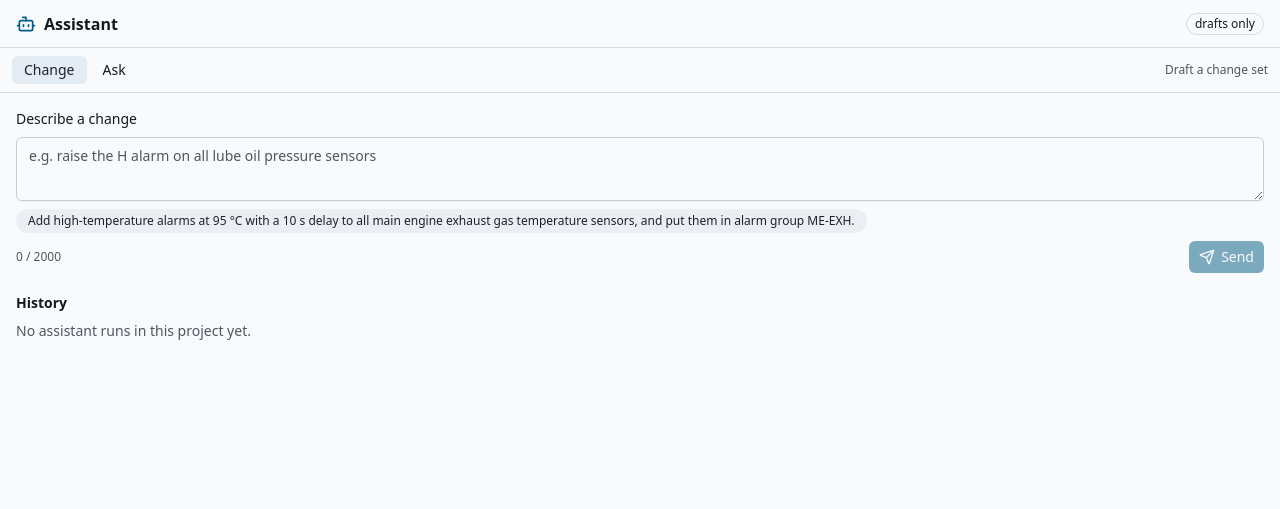
Scenario: Ask mode › notes dropped citations
Click the tab "Ask".
click(114, 70)  # box x1=90 y1=56 x2=138 y2=84
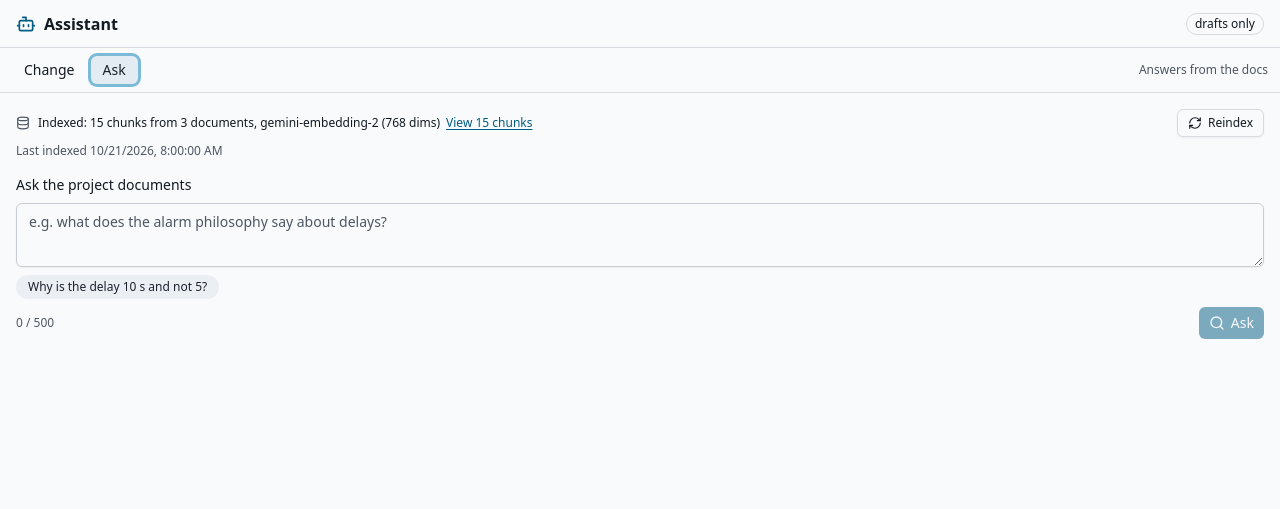
Type "why?" into the text box labelled "Ask the project documents".
click(640, 235); type("why?")  # box x1=16 y1=203 x2=1264 y2=267
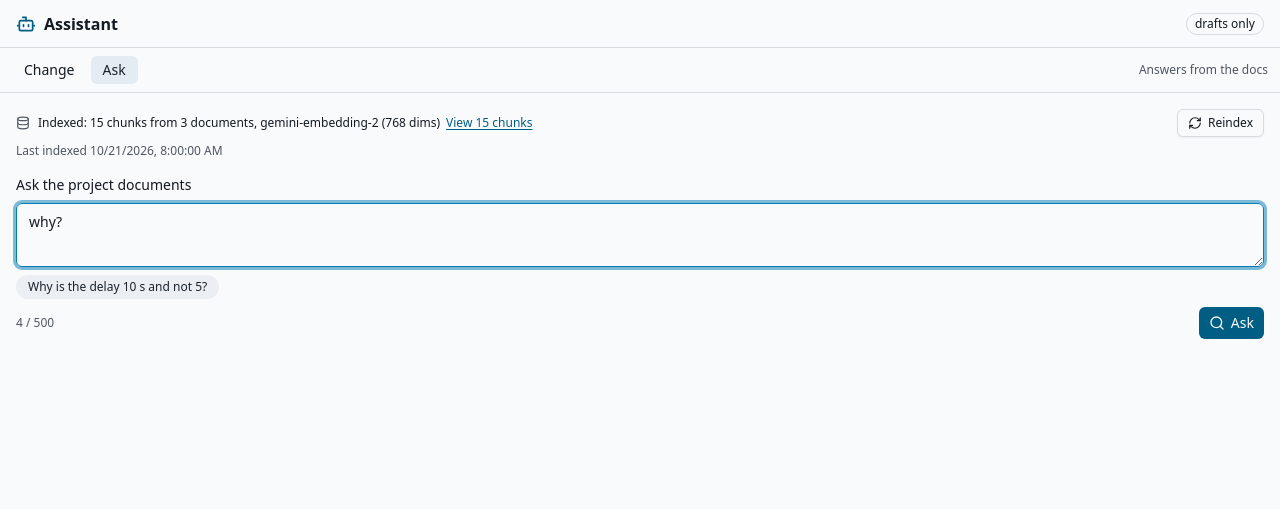
Click the button "Ask".
click(1231, 323)  # box x1=1199 y1=307 x2=1264 y2=339
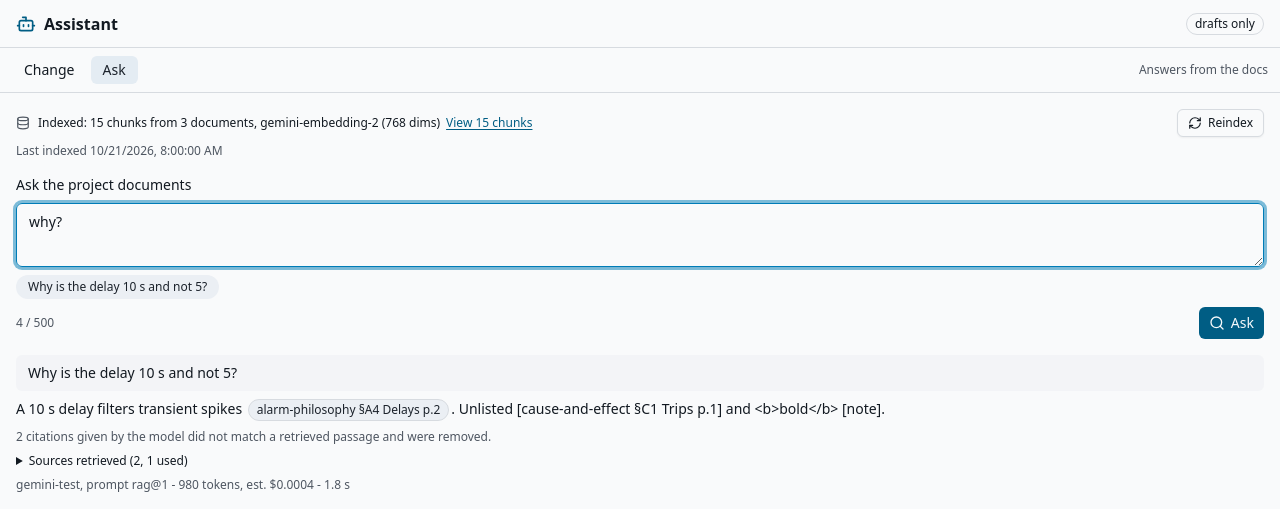
Check: the text with test id "dropped-citations" shows "2 citations given by the model did not match a retrieved passage and were removed", box x1=16 y1=428 x2=491 y2=445
